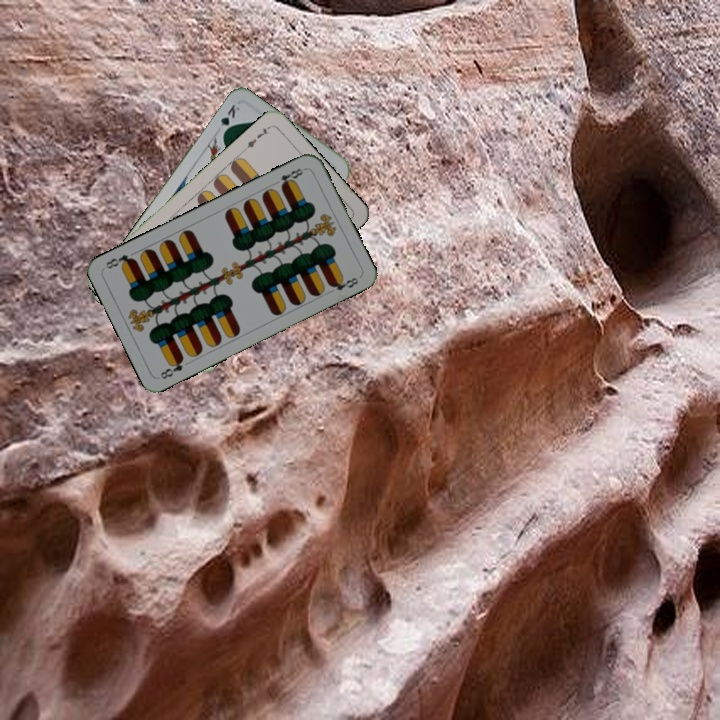E7: (240, 122, 273, 152)
E8: (270, 164, 308, 190), (156, 353, 186, 382)
GK: (215, 100, 242, 138)
